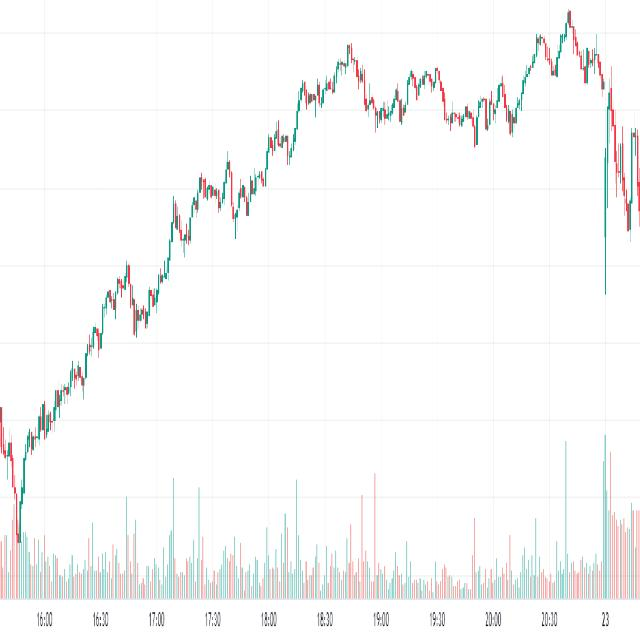Head-Shoulders: (518, 2, 619, 126)
